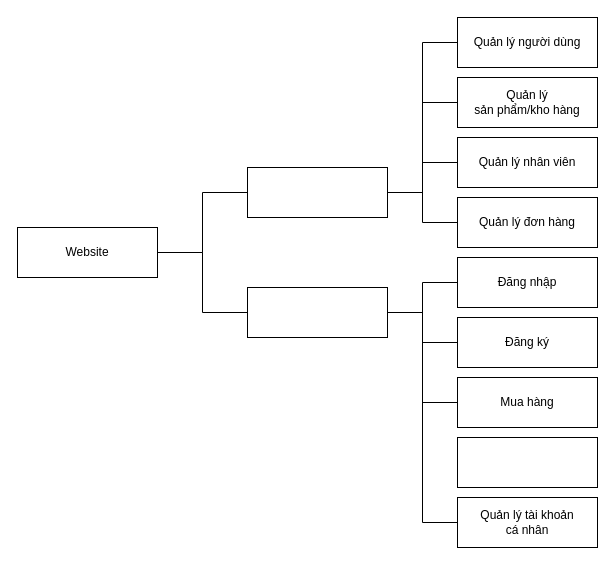
Some shapes in this 615 by 565 pixel diagram are drawn without their labels. The box of each missing label's shape, as (x1, y1, x2, y2) in pixels:
Khách hàng: (246, 286, 388, 338)
Quản lý hệ thống: (246, 166, 388, 218)
Xem chi tiết sản phẩm: (456, 436, 598, 488)
